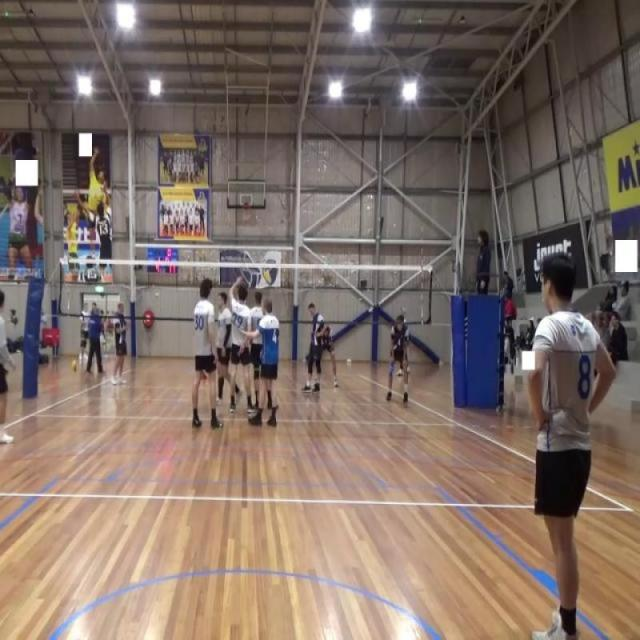volleyball: (70, 358, 80, 374)
